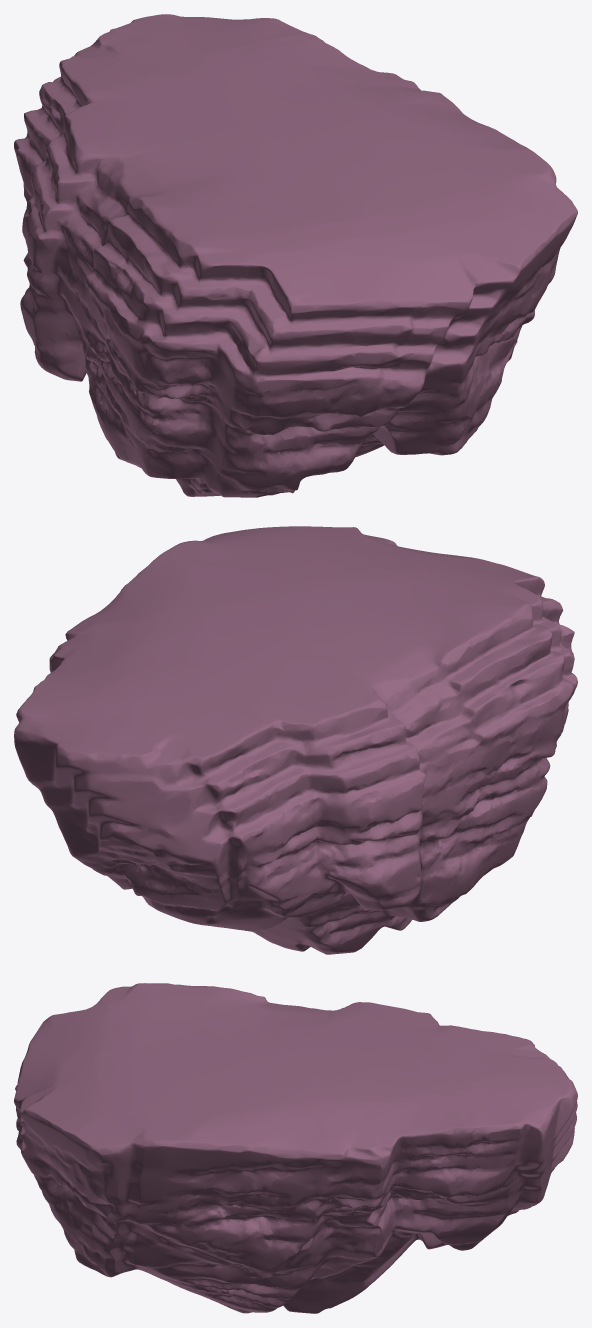
The picture shows the model from 3 angles, top to bottom: view 1: azimuth 30°, elevation 25°; view 2: azimuth 150°, elevation 25°; view 3: azimuth 270°, elevation 25°; orthographic projection. The views are drawn at different scales.
Visible parts, largest first — view 1: SM_US_Cliff_01_Detail_LOD0; view 2: SM_US_Cliff_01_Detail_LOD0; view 3: SM_US_Cliff_01_Detail_LOD0.
Boxes of the visible parts, x1=… form: SM_US_Cliff_01_Detail_LOD0: x1=14, y1=14, x2=577, y2=497; SM_US_Cliff_01_Detail_LOD0: x1=14, y1=526, x2=577, y2=954; SM_US_Cliff_01_Detail_LOD0: x1=14, y1=983, x2=577, y2=1313.
Size of the model in its own units: 38.67 by 28.25 by 54.8.
